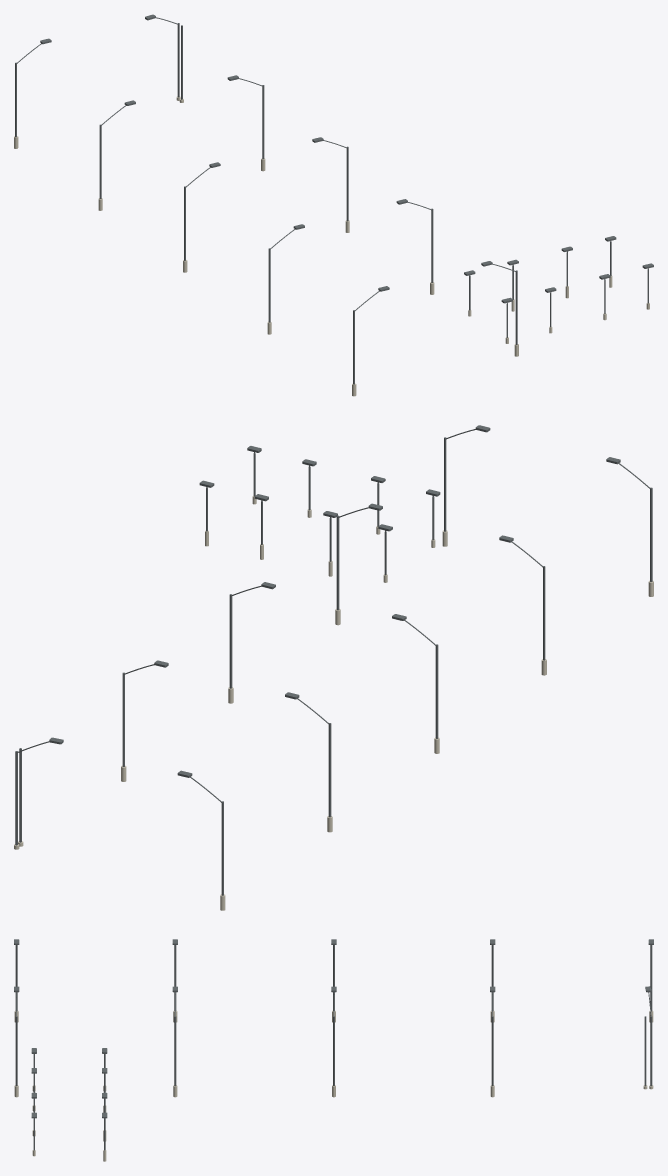
3 renders of one model, top to bottom at view 1: azimuth 30°, elevation 25°; view 2: azimuth 150°, elevation 25°; view 3: azimuth 270°, elevation 25°, orthographic. The views are drawn at different scales.
Parts seen in each view (by area): view 1: buildings_s_-12_-5_Dark_Metal, buildings_s_-12_-5_Warm_Limestone; view 2: buildings_s_-12_-5_Dark_Metal, buildings_s_-12_-5_Warm_Limestone; view 3: buildings_s_-12_-5_Dark_Metal, buildings_s_-12_-5_Warm_Limestone.
Part boxes in pixels (x1,y1,x2,y2): buildings_s_-12_-5_Dark_Metal: (15, 14, 653, 384); buildings_s_-12_-5_Warm_Limestone: (14, 96, 649, 396); buildings_s_-12_-5_Dark_Metal: (15, 425, 652, 895); buildings_s_-12_-5_Warm_Limestone: (14, 496, 653, 910); buildings_s_-12_-5_Dark_Metal: (14, 939, 653, 1150); buildings_s_-12_-5_Warm_Limestone: (14, 1010, 653, 1161).
Size of the model in its own units: 57.19 by 17.75 by 109.
